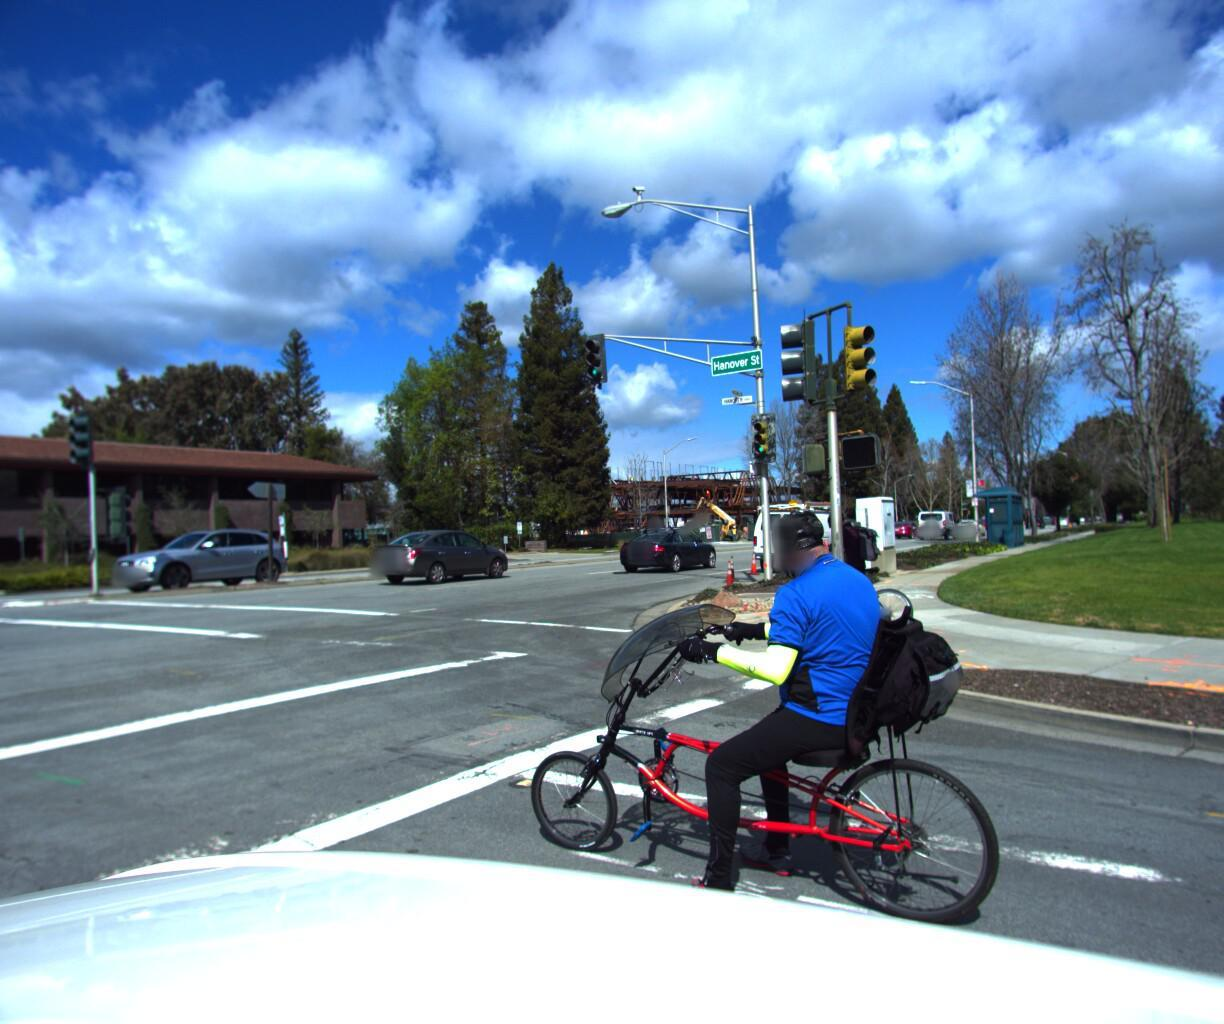bicycle: (495, 430, 1123, 1012), (777, 492, 920, 635)
car: (96, 528, 300, 600), (742, 496, 868, 576), (365, 528, 518, 586), (614, 522, 723, 576), (915, 513, 959, 541), (883, 521, 920, 542), (950, 518, 987, 538)
